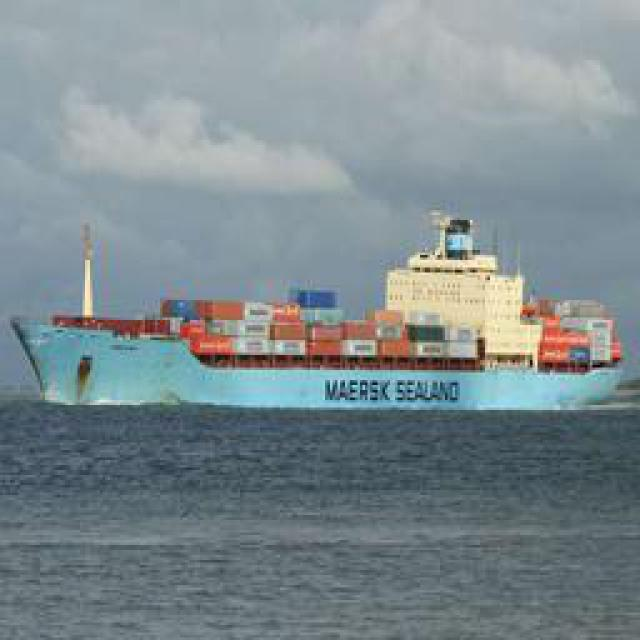Ship: (31, 202, 629, 422)
